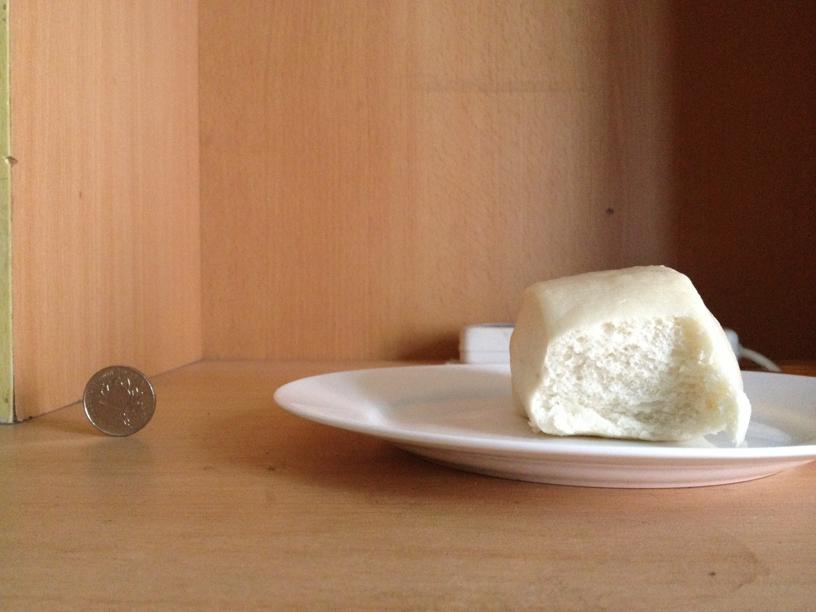bun: (505, 257, 747, 438)
coin: (82, 365, 156, 435)
